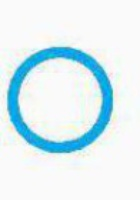RadioButton: (1, 1, 139, 199)
